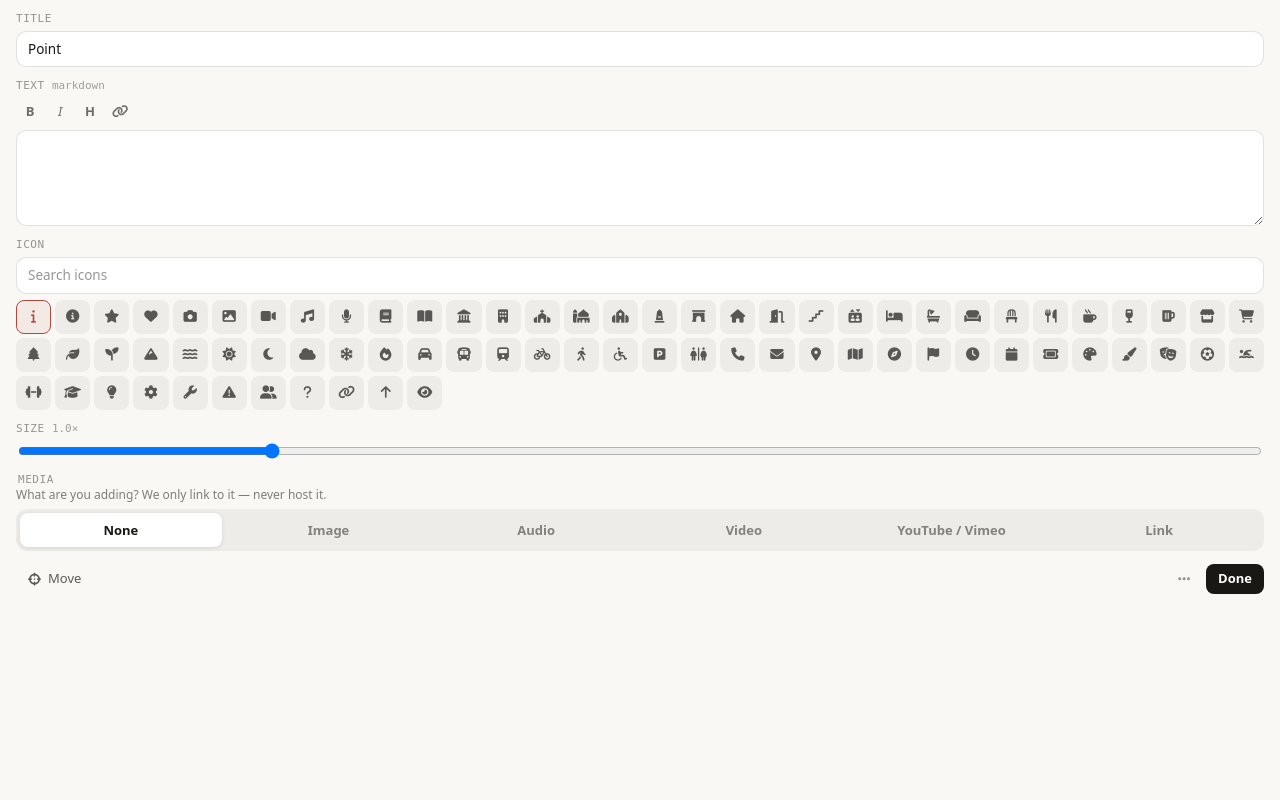
Scenario: PointEditor media picker › refuses a non-https link
This screenshot has width=1280, height=800.
Click the radio button labelled "Link".
click(1159, 530)  # box [1058,513,1260,547]
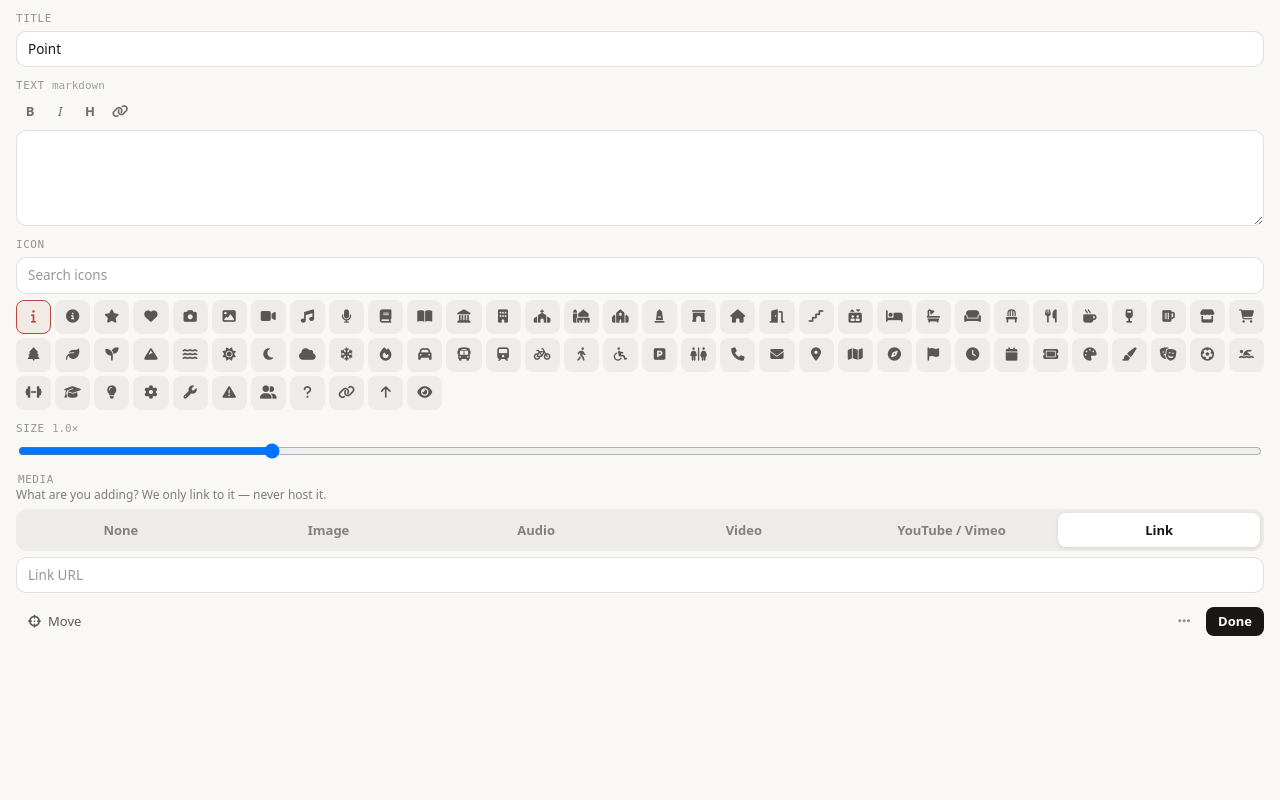
Type "javascript:alert(1)" into the field labelled "Link URL".
click(640, 575); type("javascript:alert(1)")  # box [16,557,1264,593]
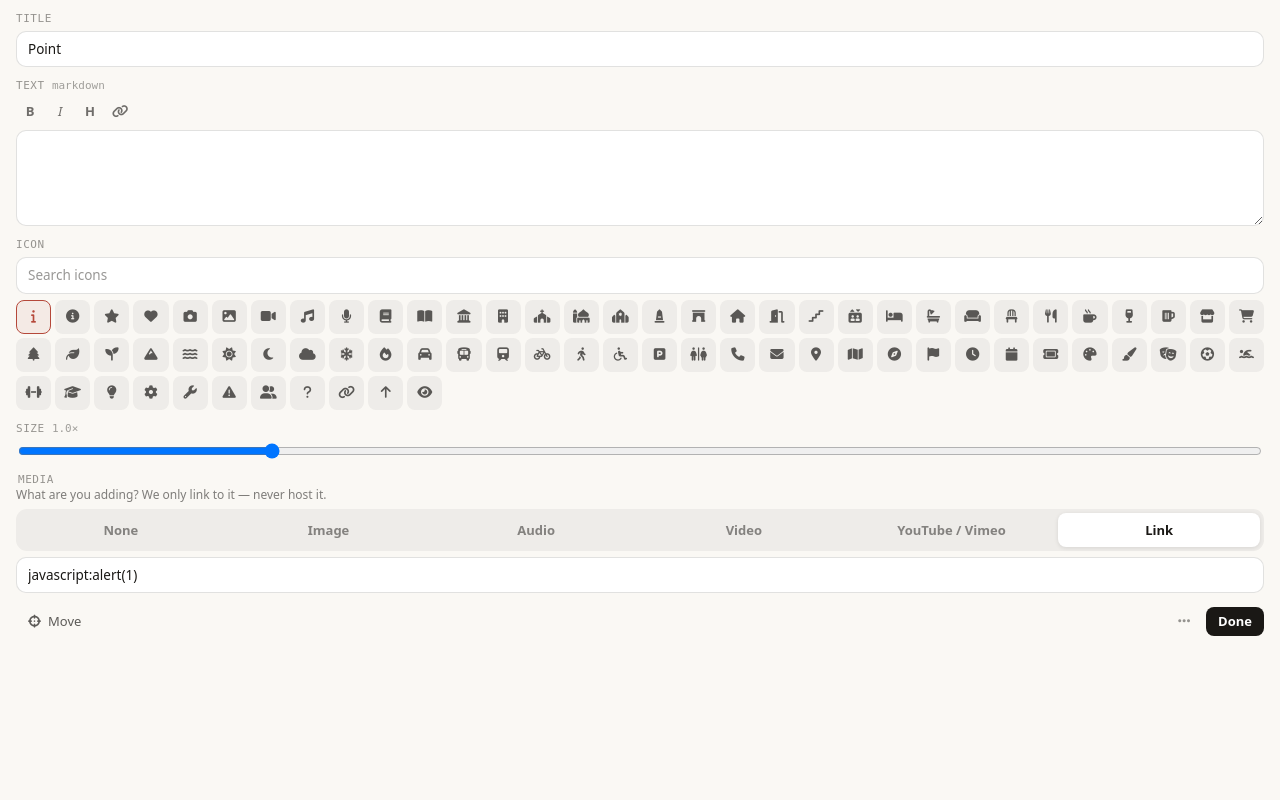
Leave the field named "Link URL", box [16,557,1264,593]
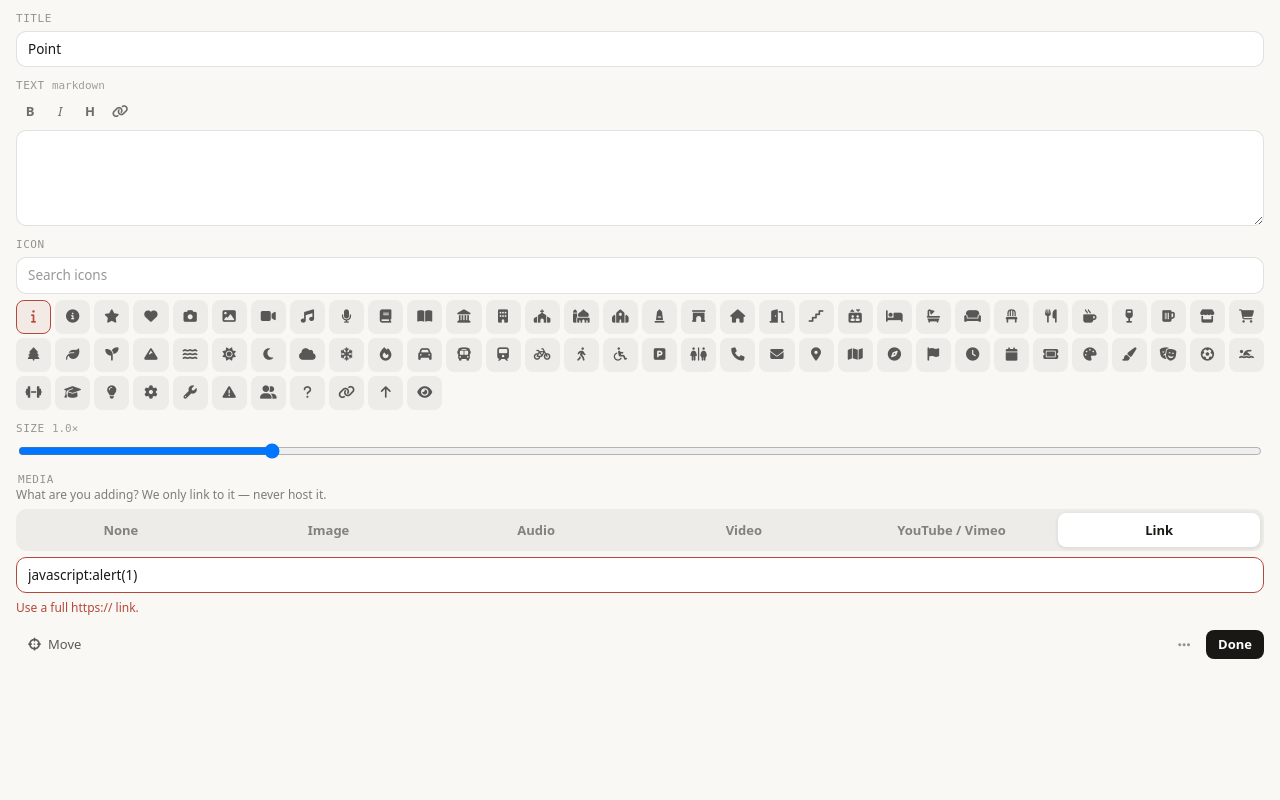
Result: the message reads "Use a full https:// link." at [16,599,139,616]
